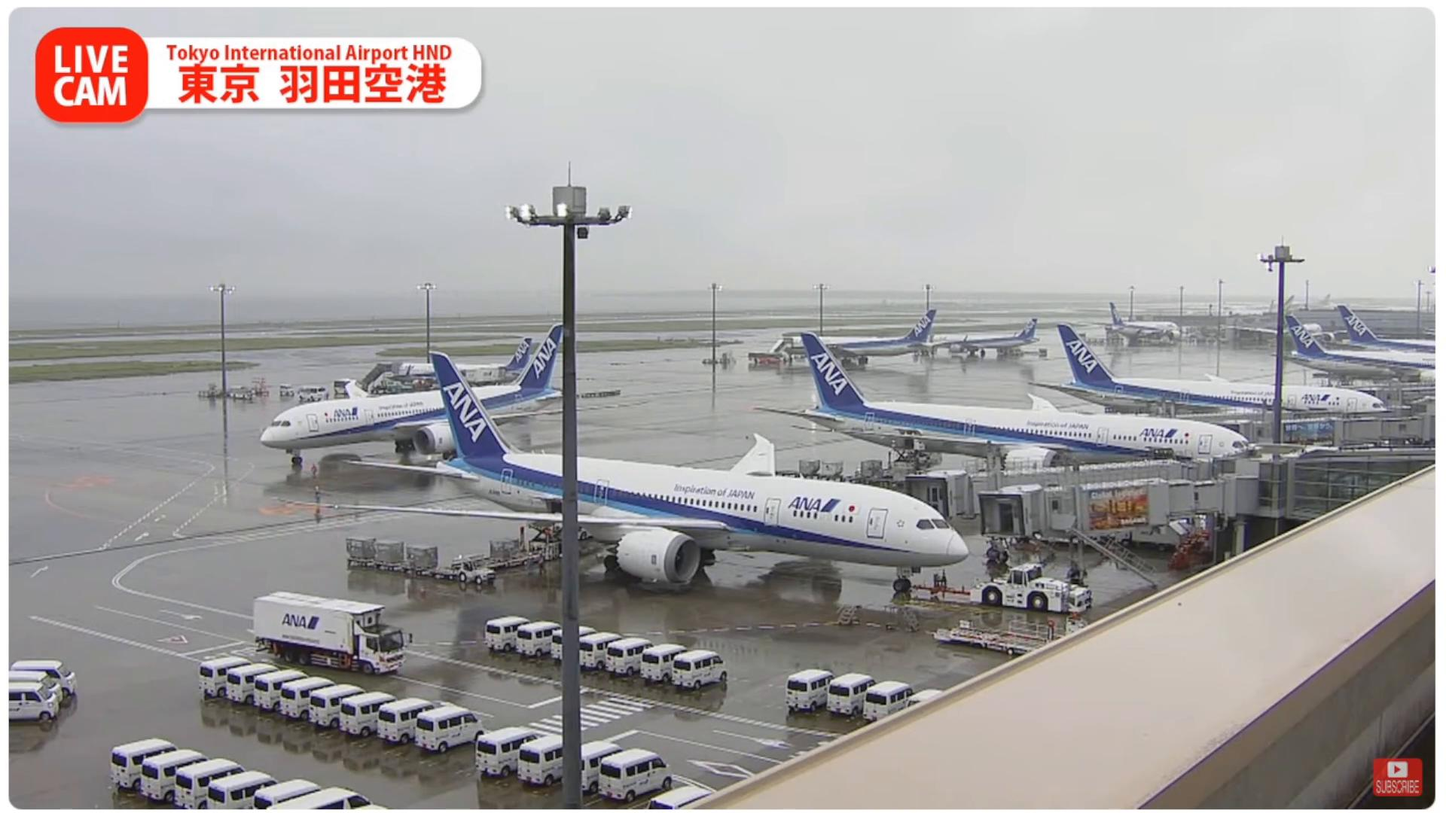APS: (969, 561, 1094, 613)
Aerobridge: (903, 442, 1211, 566), (979, 457, 1259, 589)
Airplane: (333, 353, 970, 591)
Catering: (254, 591, 407, 678)
Dolly: (350, 555, 464, 582)
JCPL: (933, 614, 1090, 658), (469, 521, 562, 568)
Tractor: (460, 555, 495, 583)
ULD: (408, 544, 437, 572), (373, 538, 404, 564), (490, 539, 523, 562), (347, 536, 377, 560)
Window: (1292, 452, 1436, 516)
